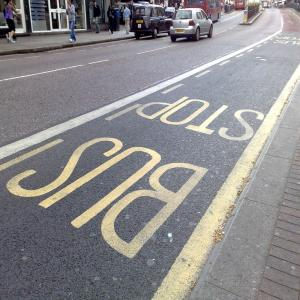Vehicle-registration-plate: (177, 31, 185, 34), (138, 21, 144, 24)
